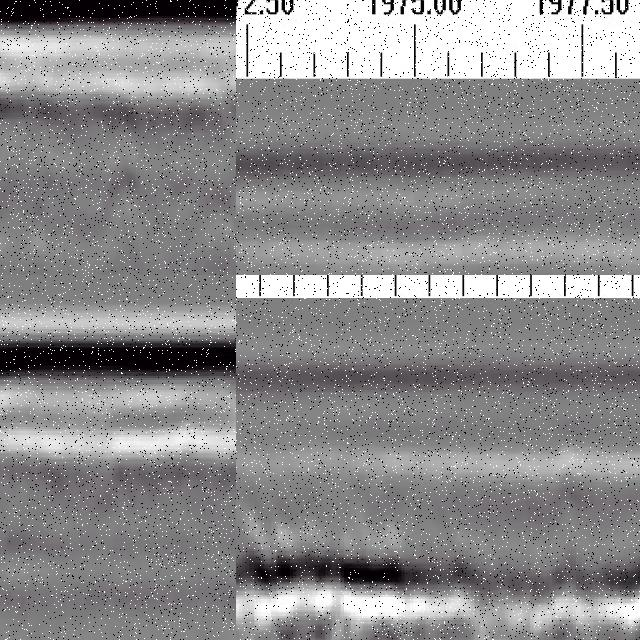loose: (237, 500, 409, 640)
